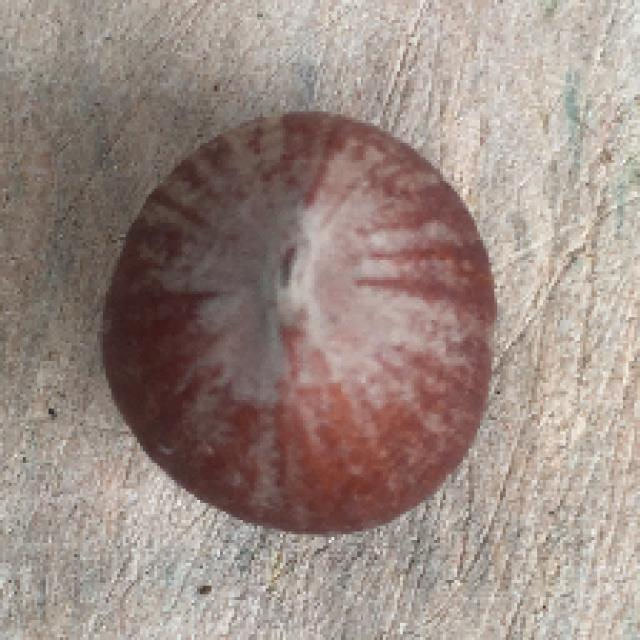qualityHazelnut: (83, 97, 514, 547)
